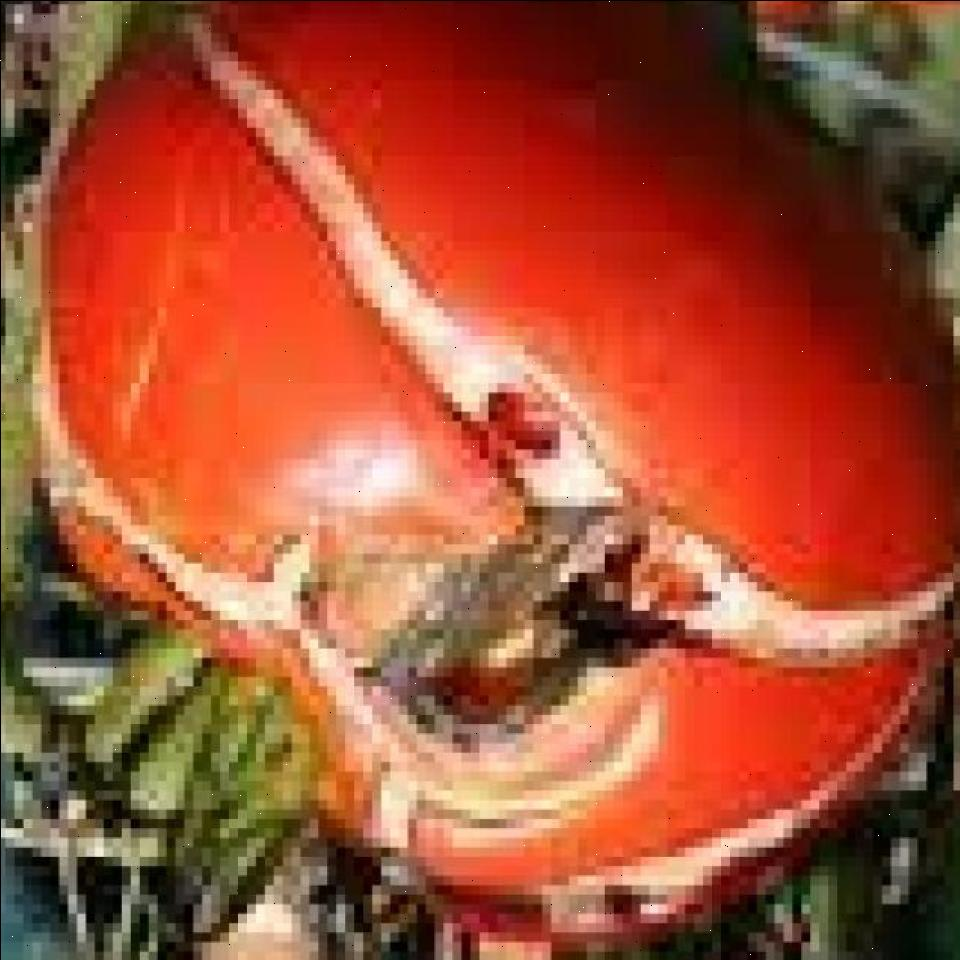Cracking: (155, 0, 960, 684), (24, 389, 644, 882), (488, 711, 960, 941)
